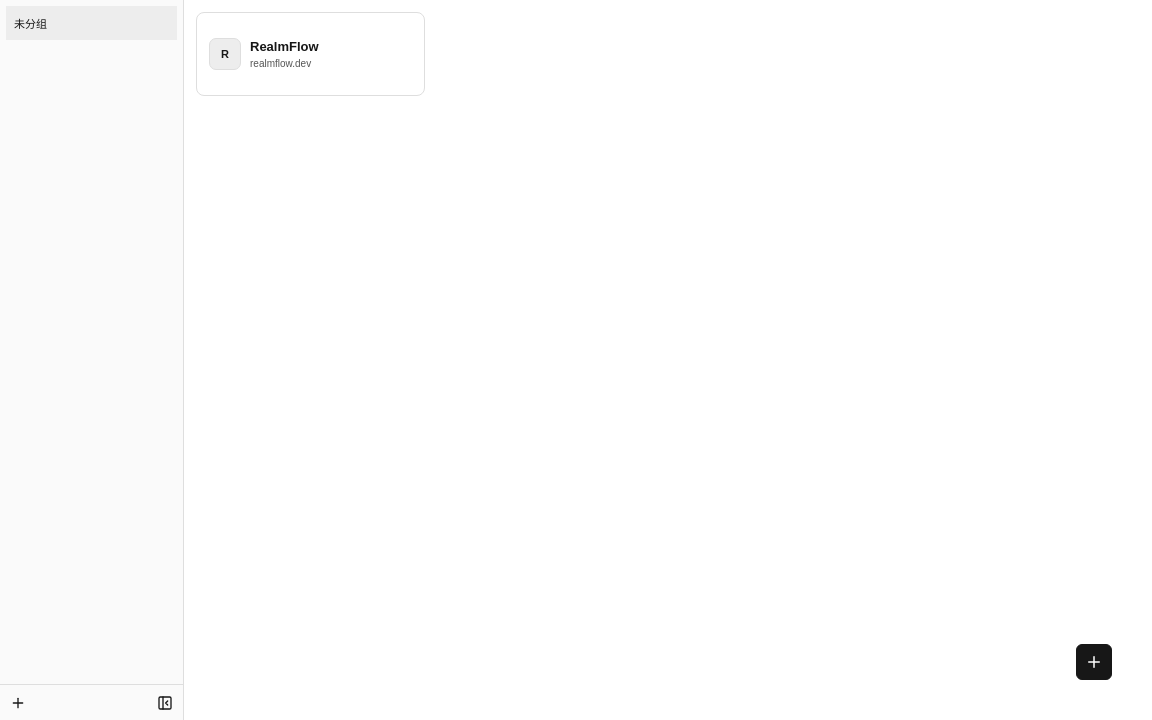
SiteWorkbenchPage › adds a site only after Main confirms creation
Expected: the button with aria-label "打开 RealmFlow" is shown, [209,25,412,83]
Step 1. Click the button named "新增网站" → (1094, 662), box [1076,644,1112,680]
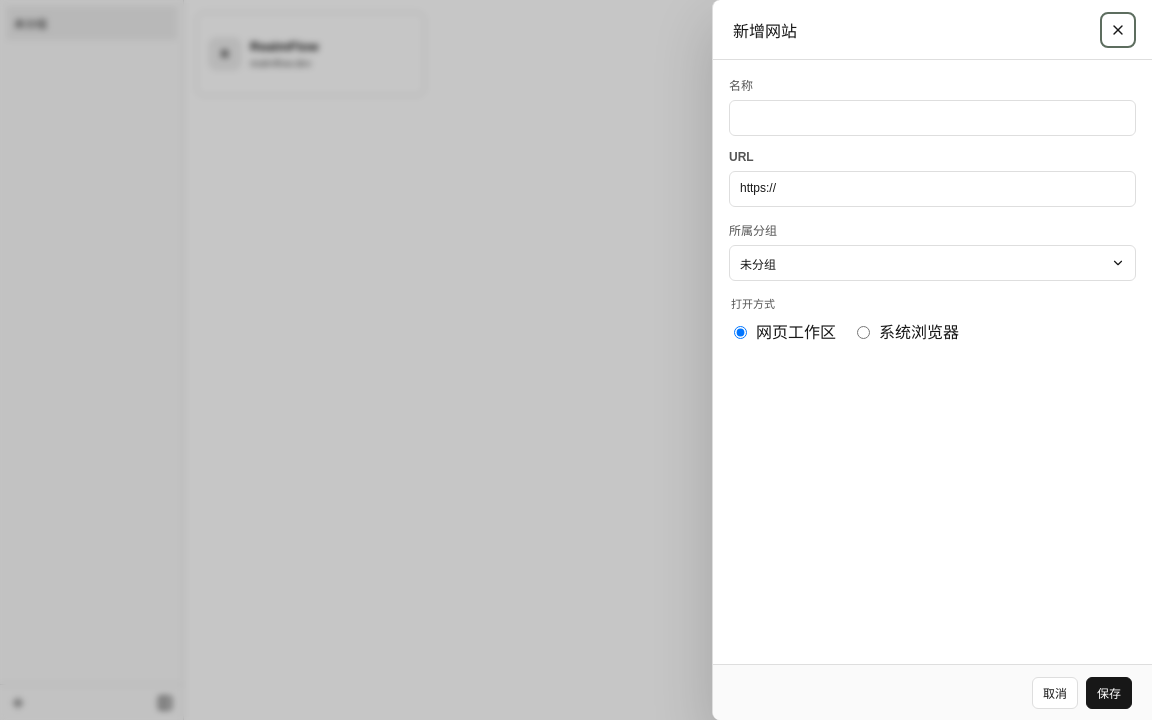
Now the element with class "ui-drawer__body" is shown, box [729,79,1136,341]
Step 2. Type "Docs" into the field labelled "名称" → (932, 118), box [729,100,1136,136]
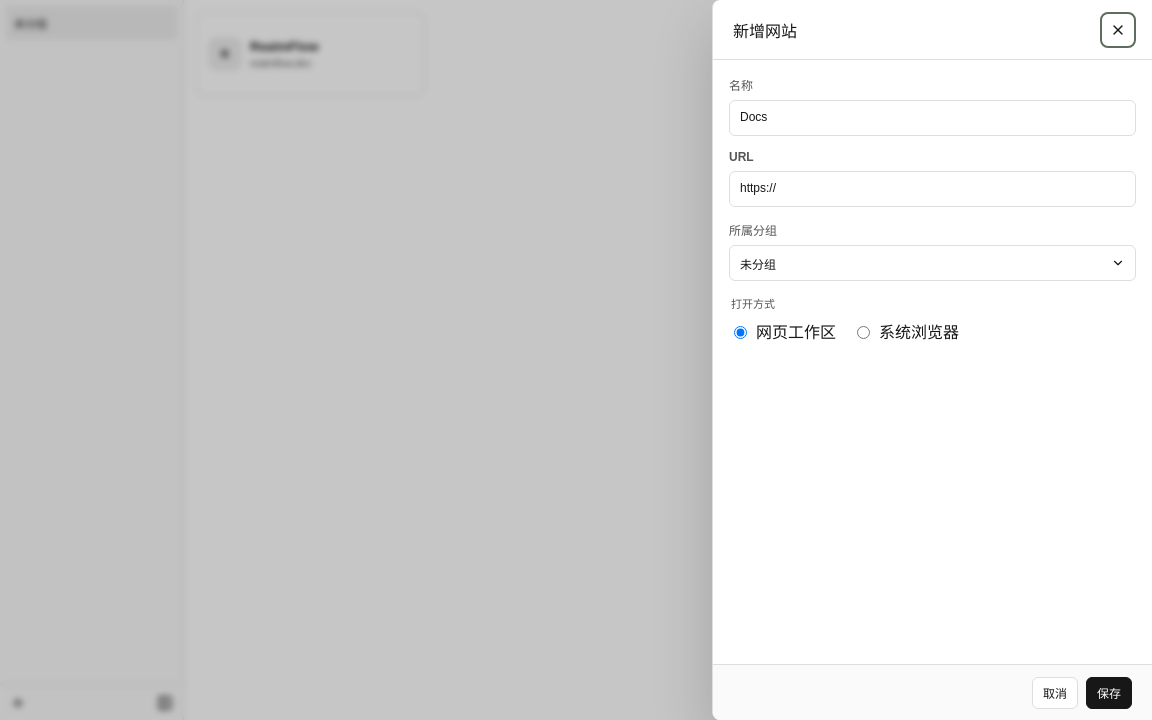
Step 3. Replace the text in the field labelled "URL" with "https://docs.example.com" → (932, 189), box [729,171,1136,207]
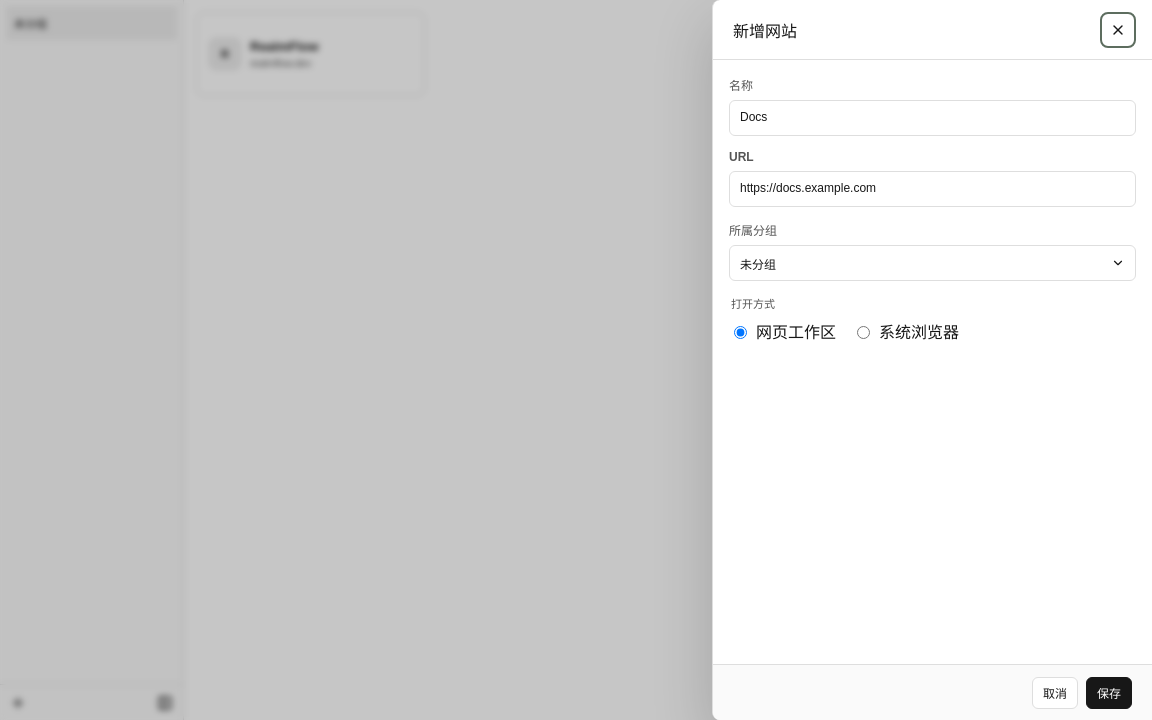
Step 4. Click the button "保存" → (1109, 692), box [1086,676,1132,708]
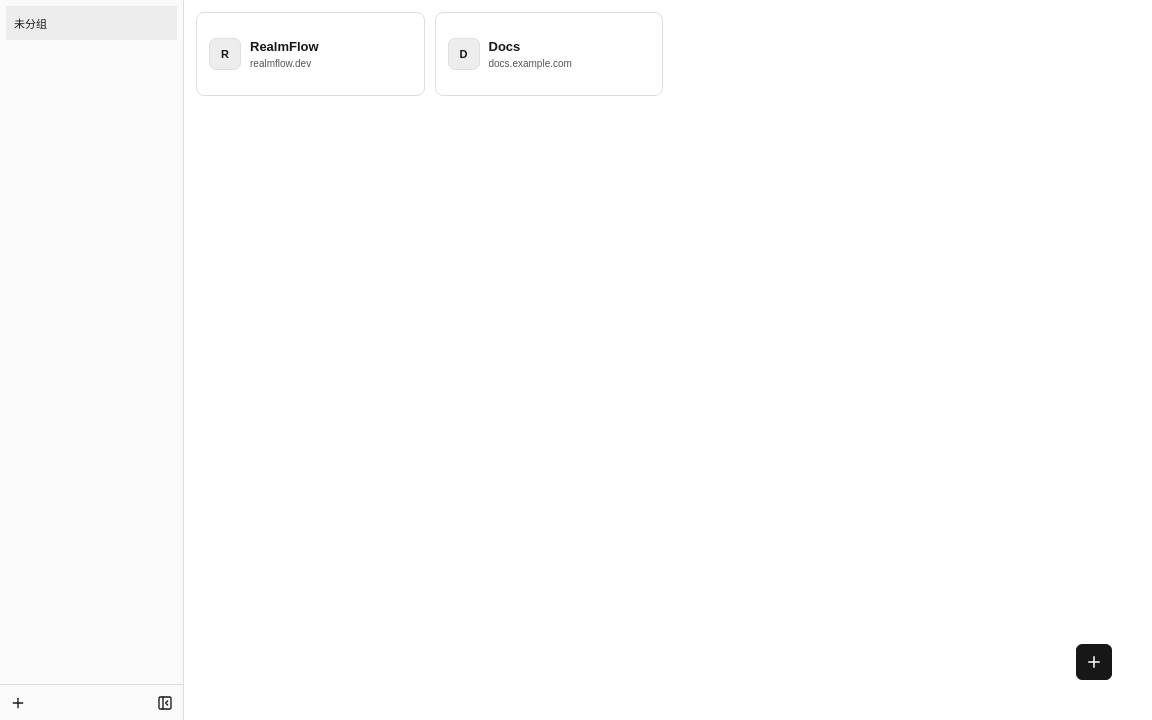
Now the button with aria-label "打开 Docs" is shown, box [448,25,650,83]
